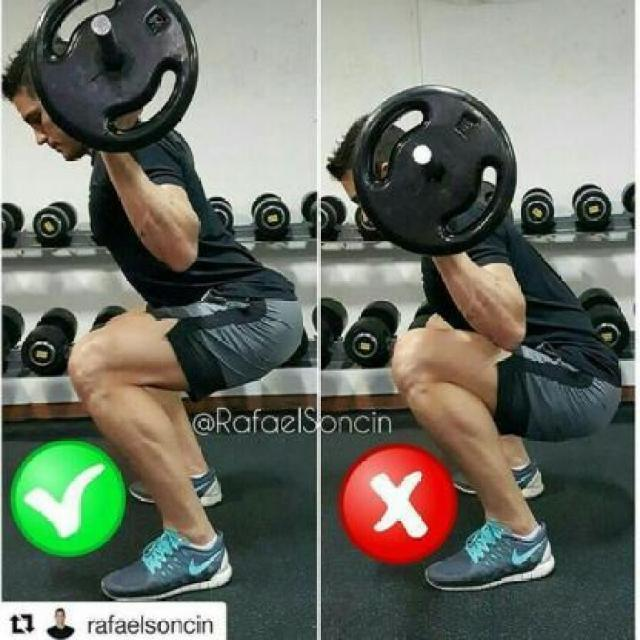Barbell: (90, 13, 113, 39), (413, 143, 433, 166)
